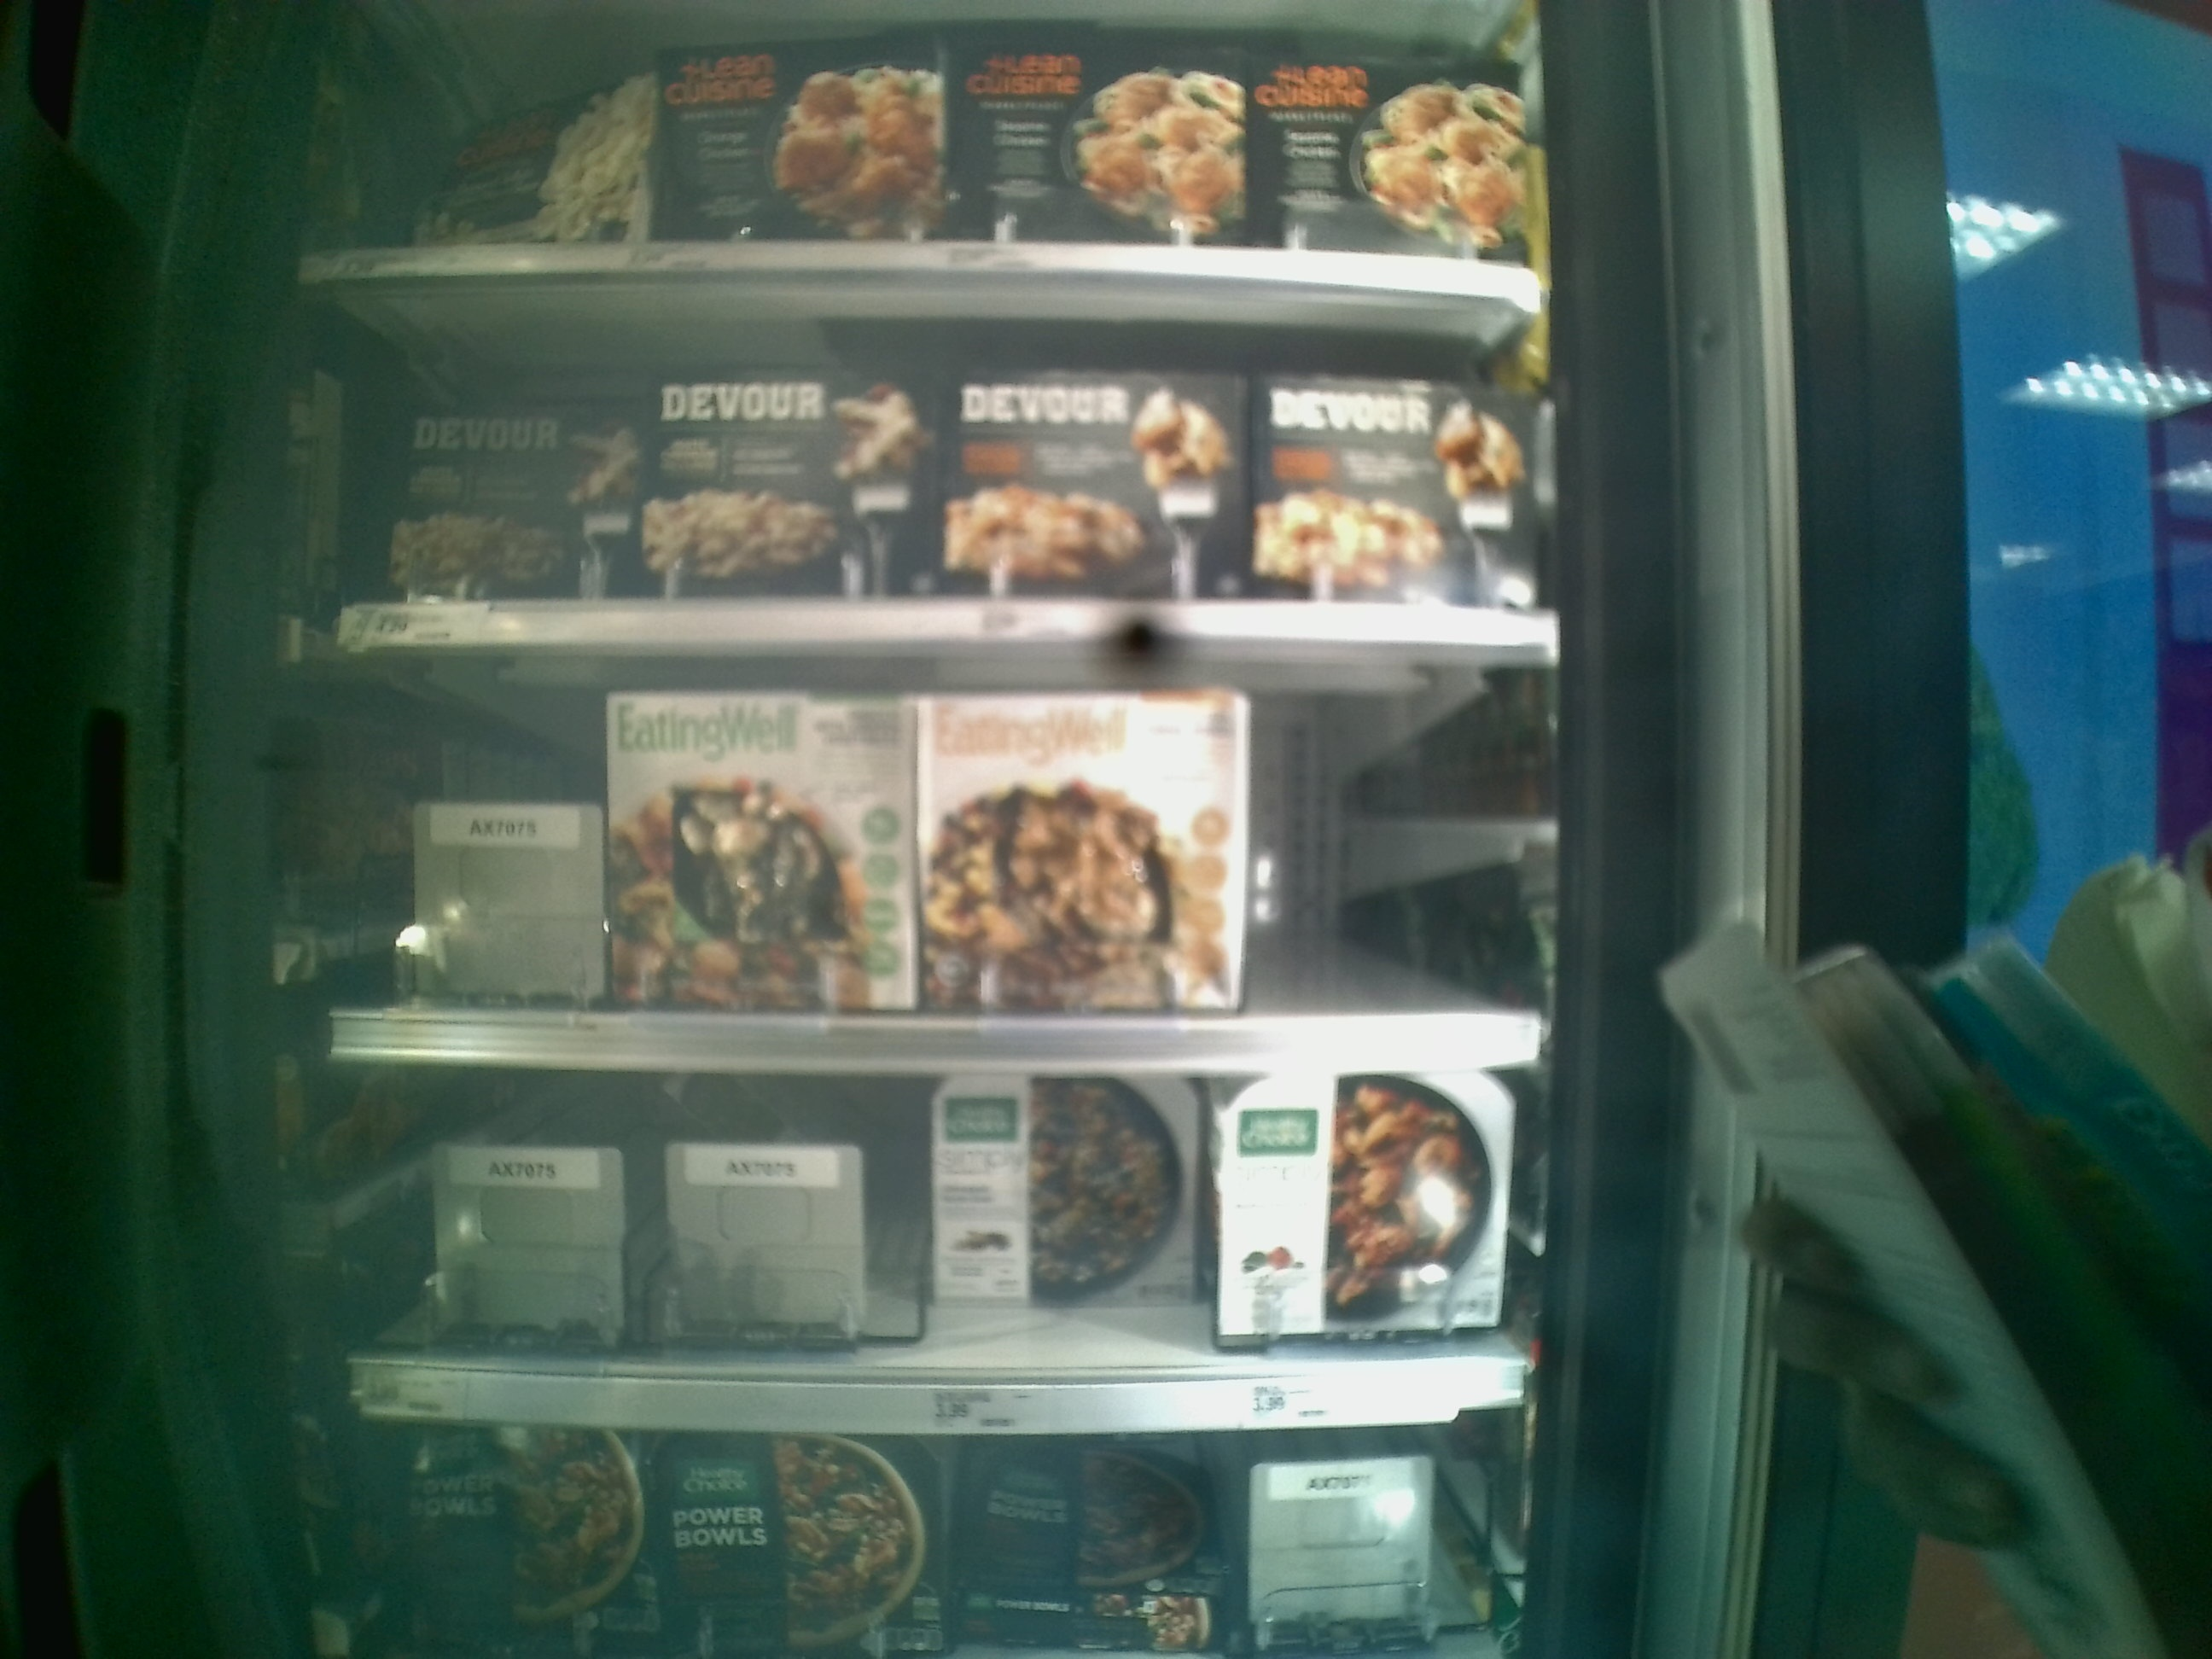shelf: (326, 641, 1554, 1073), (303, 270, 1555, 641), (319, 1063, 1545, 1434)
